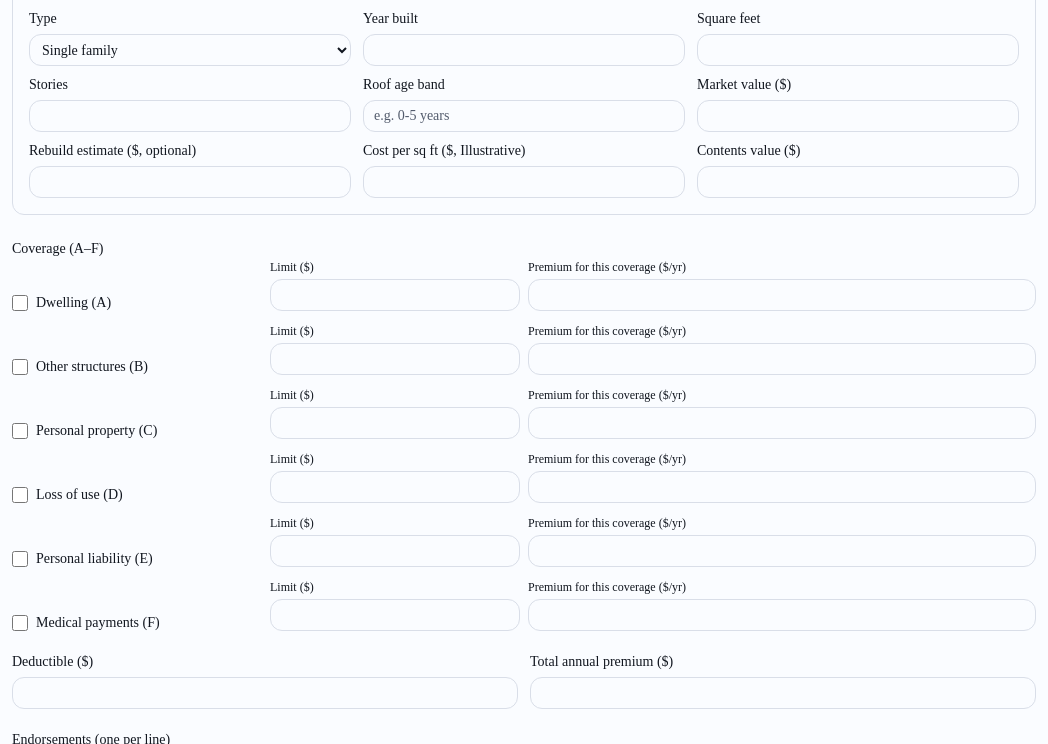
it: HomeProfile › labels the dwelling-vs-rebuild ratio Illustrative when the rebuild estimate comes from sqft x cost/sqft (C11)
The width and height of the screenshot is (1048, 744).
Click the checkbox labelled "Dwelling (A)" at (20, 303), box [12,295,28,311]
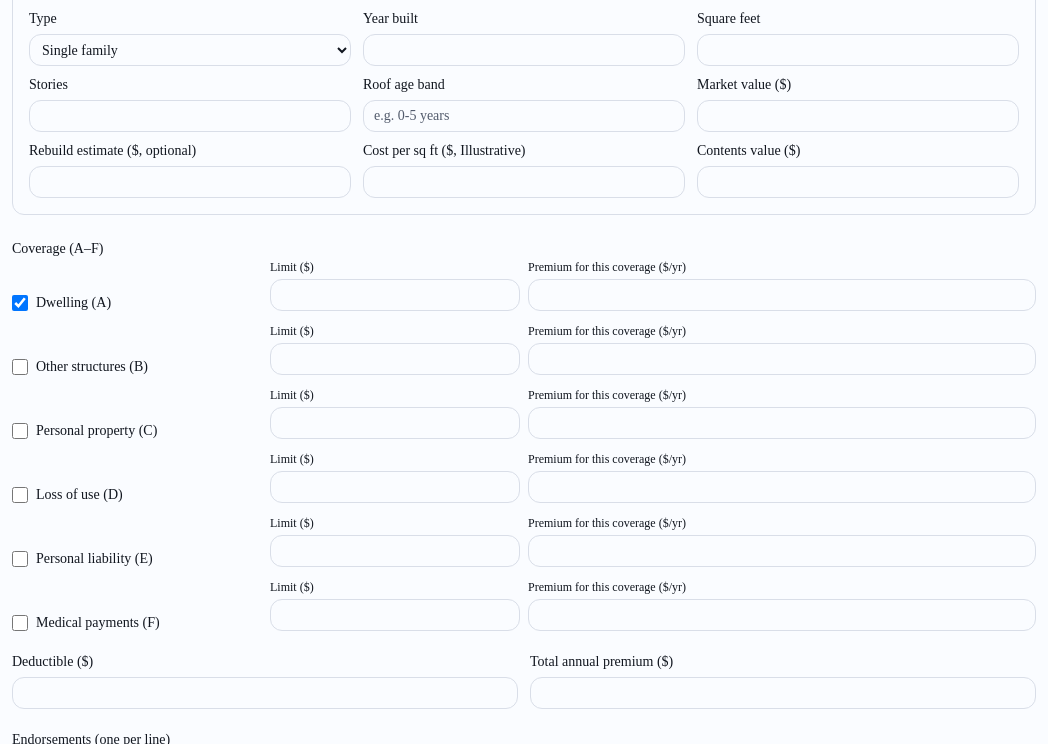
Type "600000" into the number field labelled "Limit ($)" next to "Dwelling (A)" at (395, 295), box [270,279,520,311]
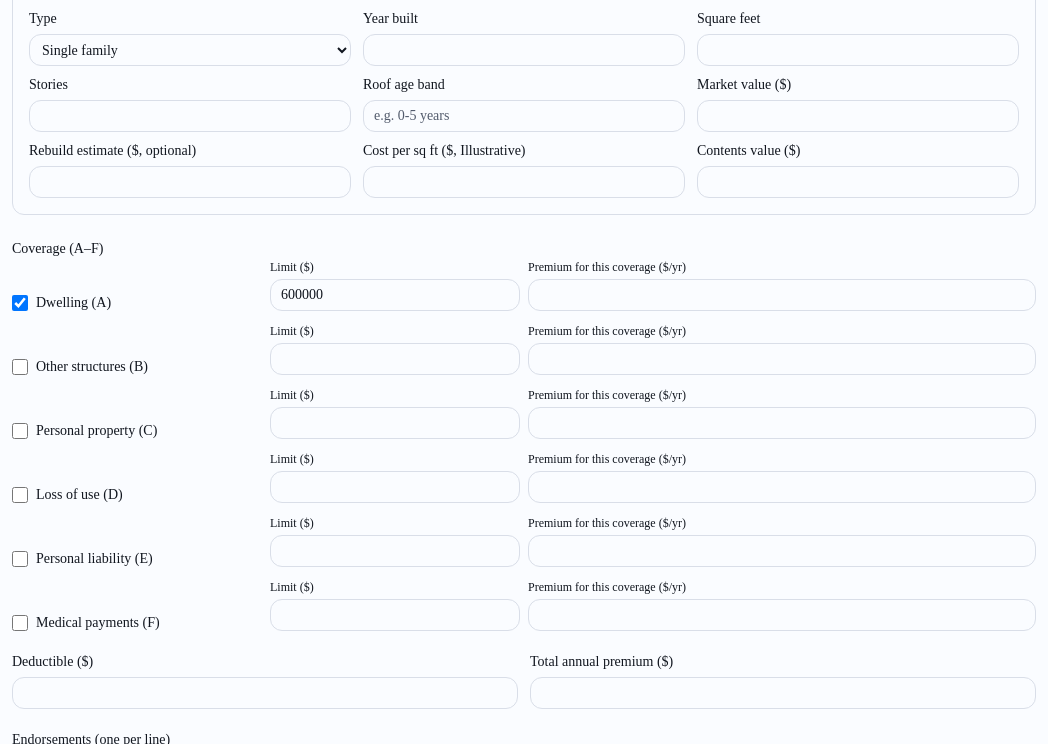
Type "600" into the number field labelled "Premium for this coverage ($/yr)" in the row of "Dwelling (A)" at (782, 295), box [528,279,1036,311]
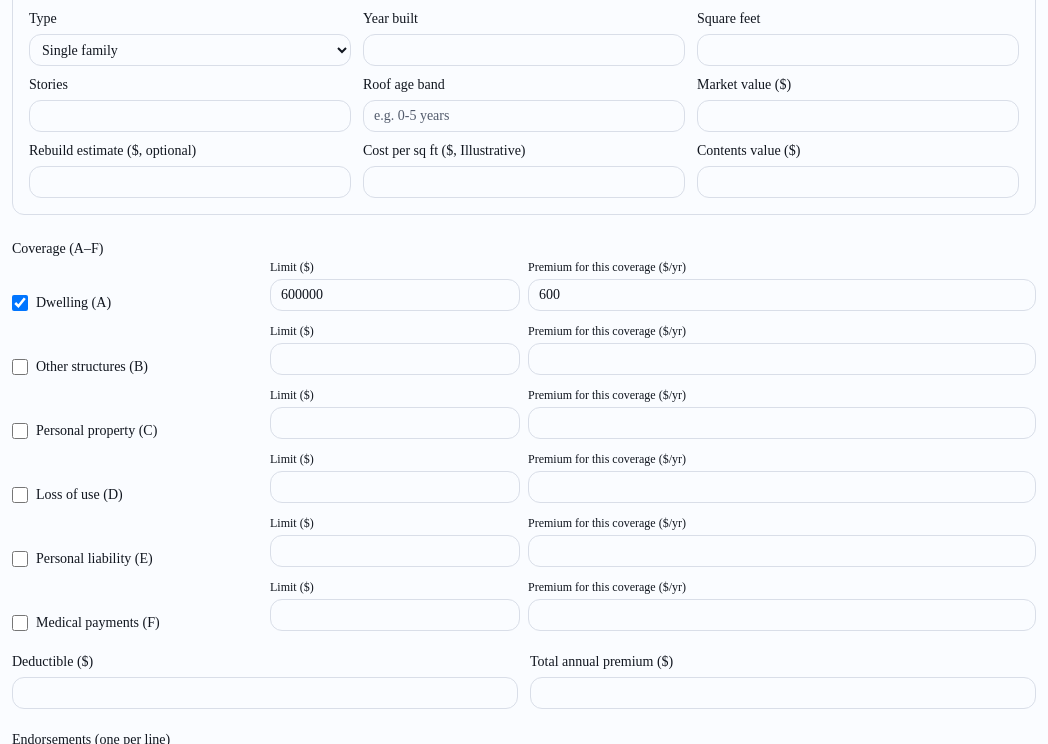
Type "2000" into the number field labelled "Square feet" at (858, 50), box [697,34,1019,66]
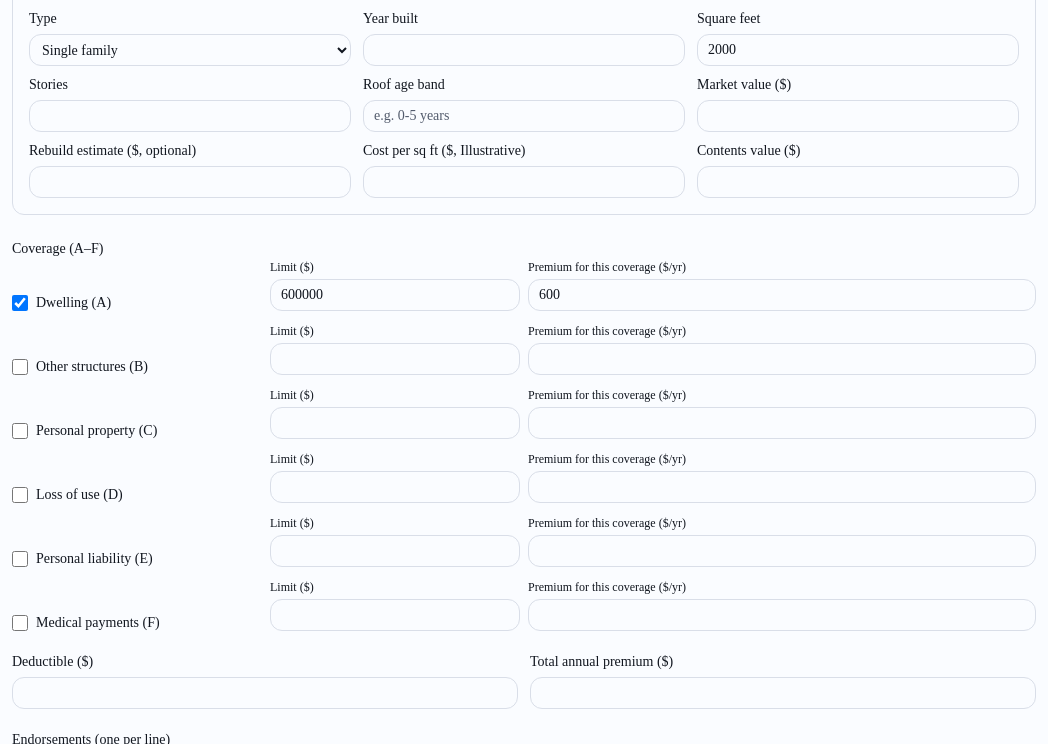
Type "350" into the number field labelled "Cost per sq ft ($, Illustrative)" at (524, 182), box [363,166,685,198]
(page scrolled)
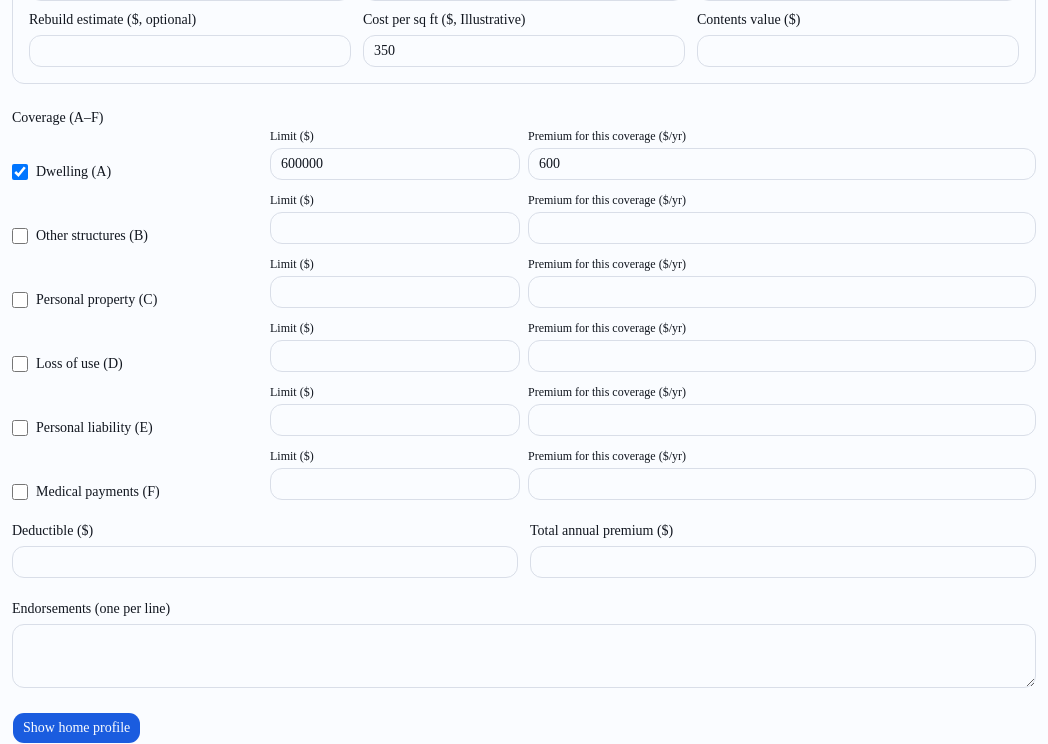
Click the button "Show home profile" at (77, 728), box [12,712,141,743]
(page scrolled)
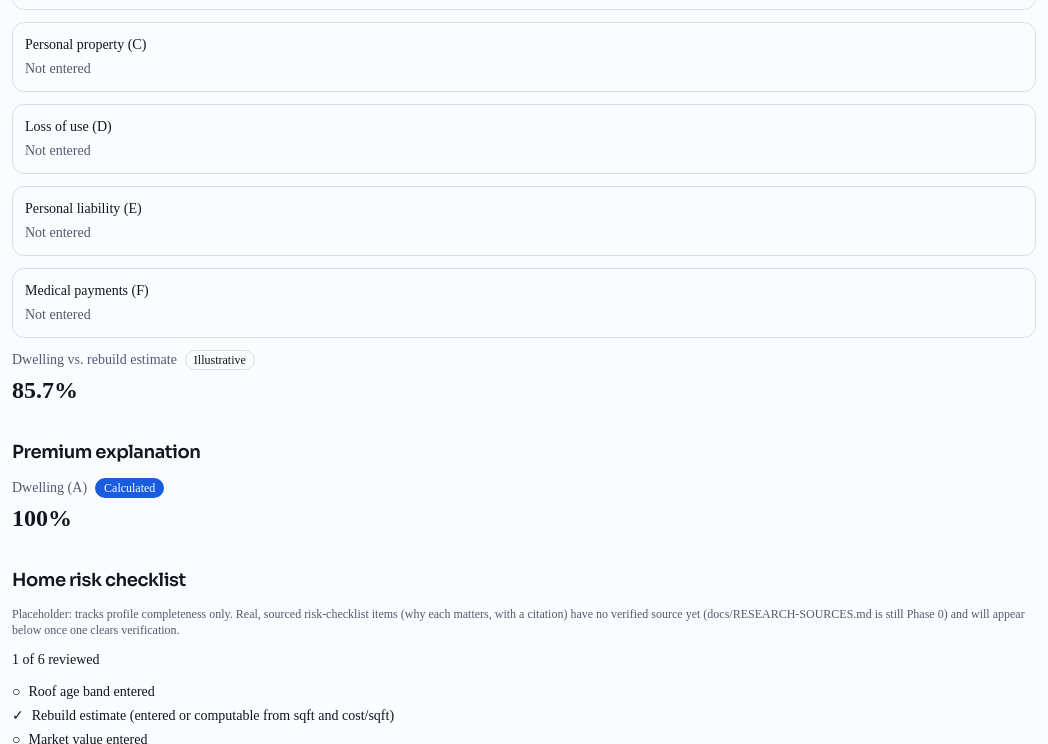
Expected: the text "85.7%" is shown, [12,377,78,403]
Expected: the text "Illustrative" is shown, [185,350,255,370]
